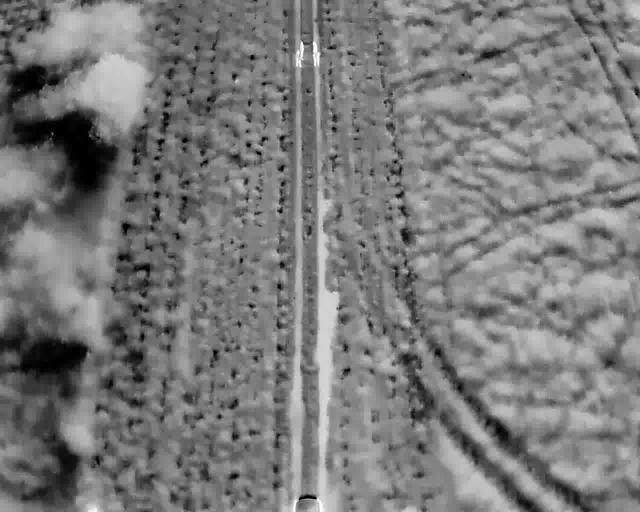car: (292, 490, 327, 511)
